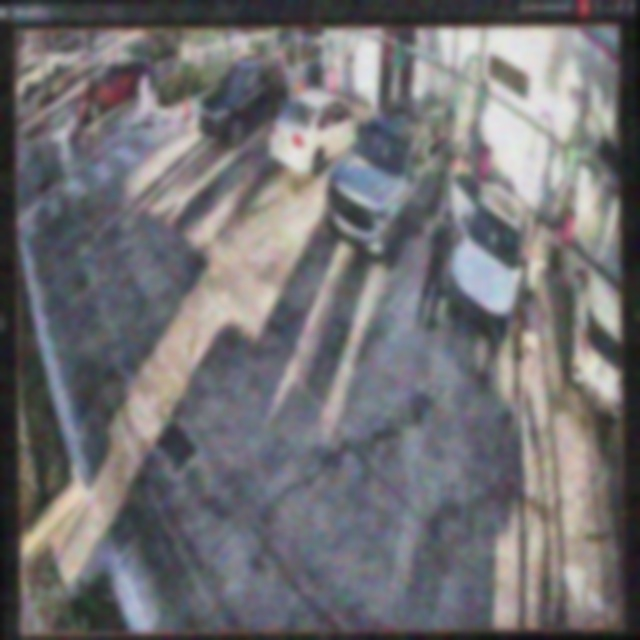Car: (325, 98, 452, 268), (449, 177, 534, 339), (197, 53, 289, 149), (270, 88, 366, 178)
